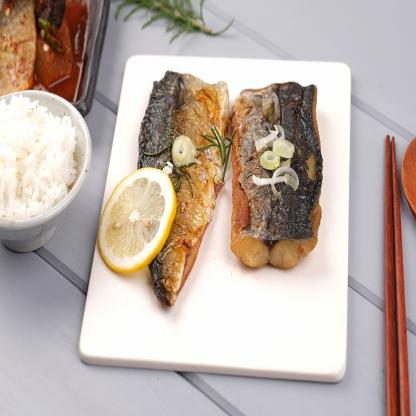Peixe: (140, 63, 229, 308), (226, 54, 324, 272)
